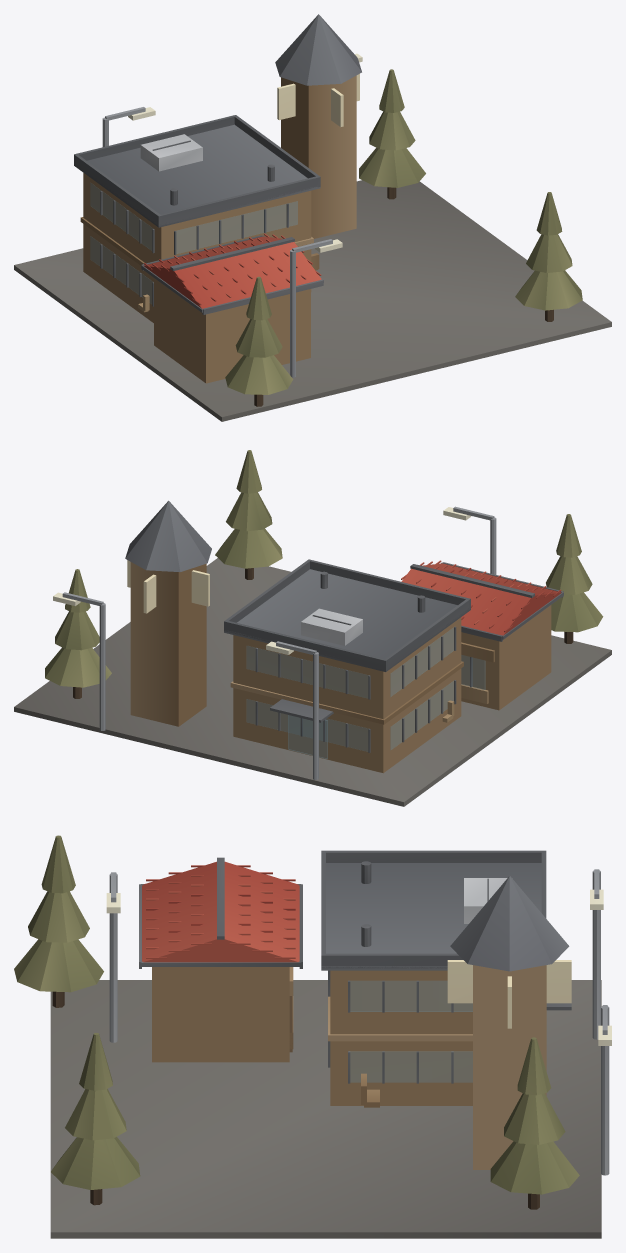
Rendered from Civic_P1.fbx.
The picture shows the model from 3 angles, top to bottom: view 1: azimuth 30°, elevation 25°; view 2: azimuth 150°, elevation 25°; view 3: azimuth 270°, elevation 25°; orthographic projection. The views are drawn at different scales.
Visible parts, largest first — view 1: Civic.Plaza, Civic.Hall, Civic.Shop0, Civic.Tower, Civic.Tree2, Civic.Tree0, Civic.Tree1, Civic.Lamp0, Civic.Lamp2; view 2: Civic.Hall, Civic.Plaza, Civic.Tower, Civic.Shop0, Civic.Tree1, Civic.Tree0, Civic.Tree2, Civic.Lamp1, Civic.Lamp2, Civic.Lamp0; view 3: Civic.Plaza, Civic.Hall, Civic.Shop0, Civic.Tower, Civic.Tree2, Civic.Tree0, Civic.Tree1, Civic.Lamp0, Civic.Lamp1, Civic.Lamp2.
Part boxes in pixels (x1,y1,x2,y2): Civic.Plaza: (14, 180, 611, 421); Civic.Hall: (74, 115, 320, 322); Civic.Shop0: (141, 233, 323, 383); Civic.Tower: (275, 14, 361, 238); Civic.Tree2: (225, 276, 293, 406); Civic.Tree0: (359, 69, 425, 199); Civic.Tree1: (515, 192, 582, 321); Civic.Lamp0: (290, 239, 342, 377); Civic.Lamp2: (102, 107, 155, 146); Civic.Hall: (224, 559, 470, 773); Civic.Plaza: (14, 558, 611, 806); Civic.Tower: (125, 500, 211, 726); Civic.Shop0: (401, 560, 563, 710); Civic.Tree1: (215, 450, 282, 579); Civic.Tree0: (45, 569, 111, 698); Civic.Tree2: (546, 514, 603, 643); Civic.Lamp1: (53, 592, 105, 730); Civic.Lamp2: (266, 641, 318, 779); Civic.Lamp0: (443, 506, 496, 574); Civic.Plaza: (50, 980, 601, 1238); Civic.Hall: (321, 850, 571, 1105); Civic.Shop0: (139, 857, 302, 1062); Civic.Tower: (447, 876, 571, 1169); Civic.Tree2: (14, 835, 103, 1007); Civic.Tree0: (490, 1037, 579, 1209); Civic.Tree1: (51, 1033, 140, 1205); Civic.Lamp0: (106, 872, 120, 1042); Civic.Lamp1: (598, 1005, 611, 1175); Civic.Lamp2: (590, 869, 603, 1039).
Size of the model in its own units: 2600 by 1371 by 2604.
